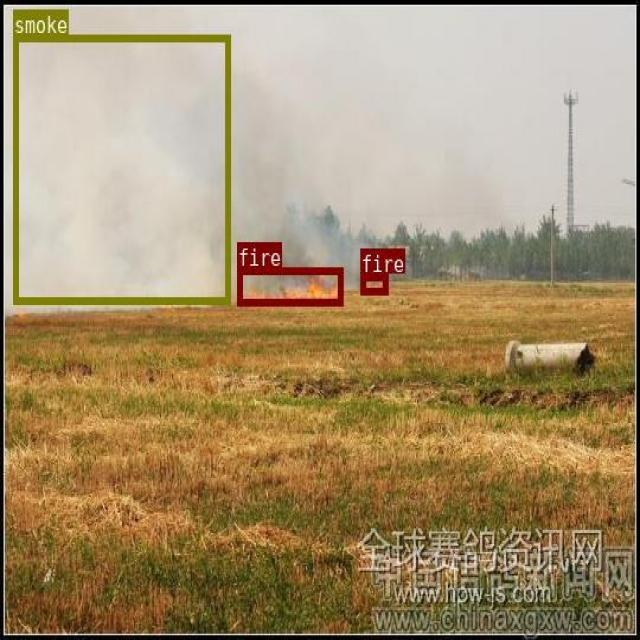fire: (236, 267, 342, 304), (359, 272, 387, 294)
smoke: (13, 34, 229, 303)
